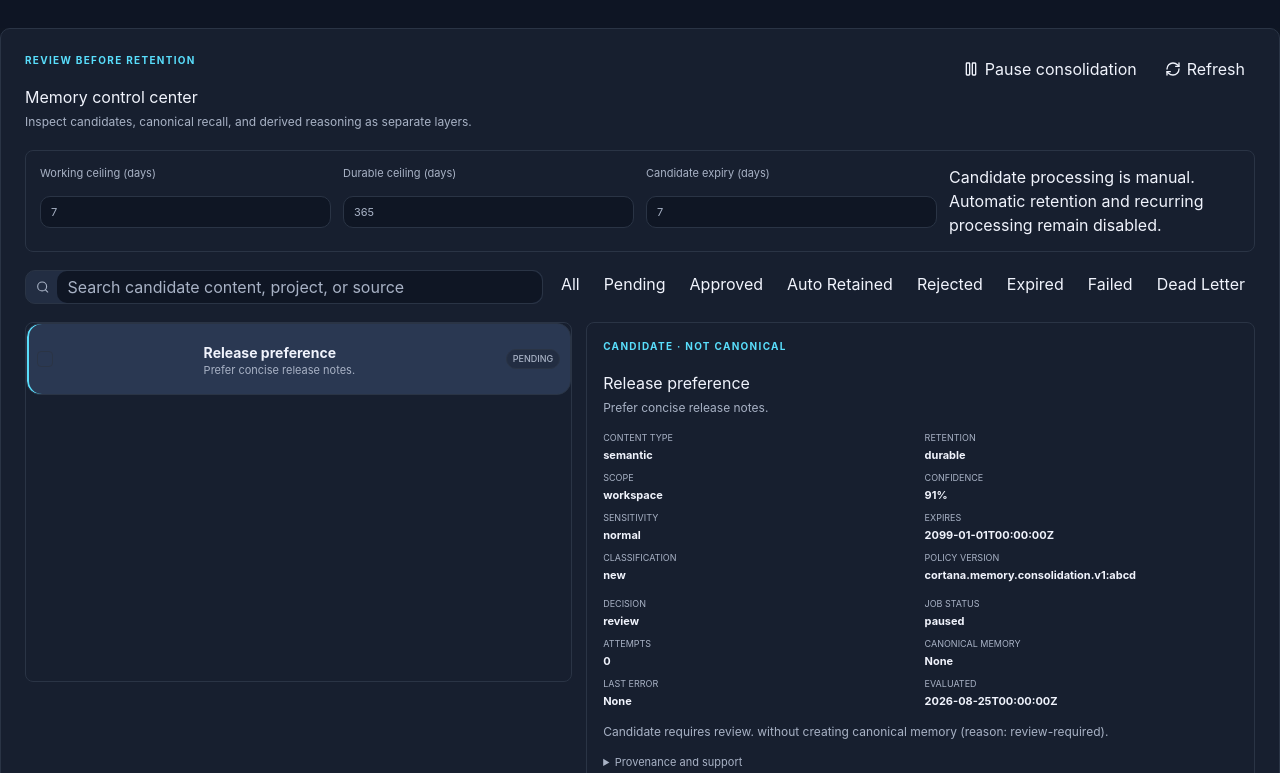
Test: renders a bounded searchable queue with inspectable policy and provenance
Expected: the list named "Memory candidate queue" is shown, [25, 322, 572, 682]
Step 1. Click the button "Release preference Prefer concise release notes." → (279,359), box [61, 343, 498, 375]
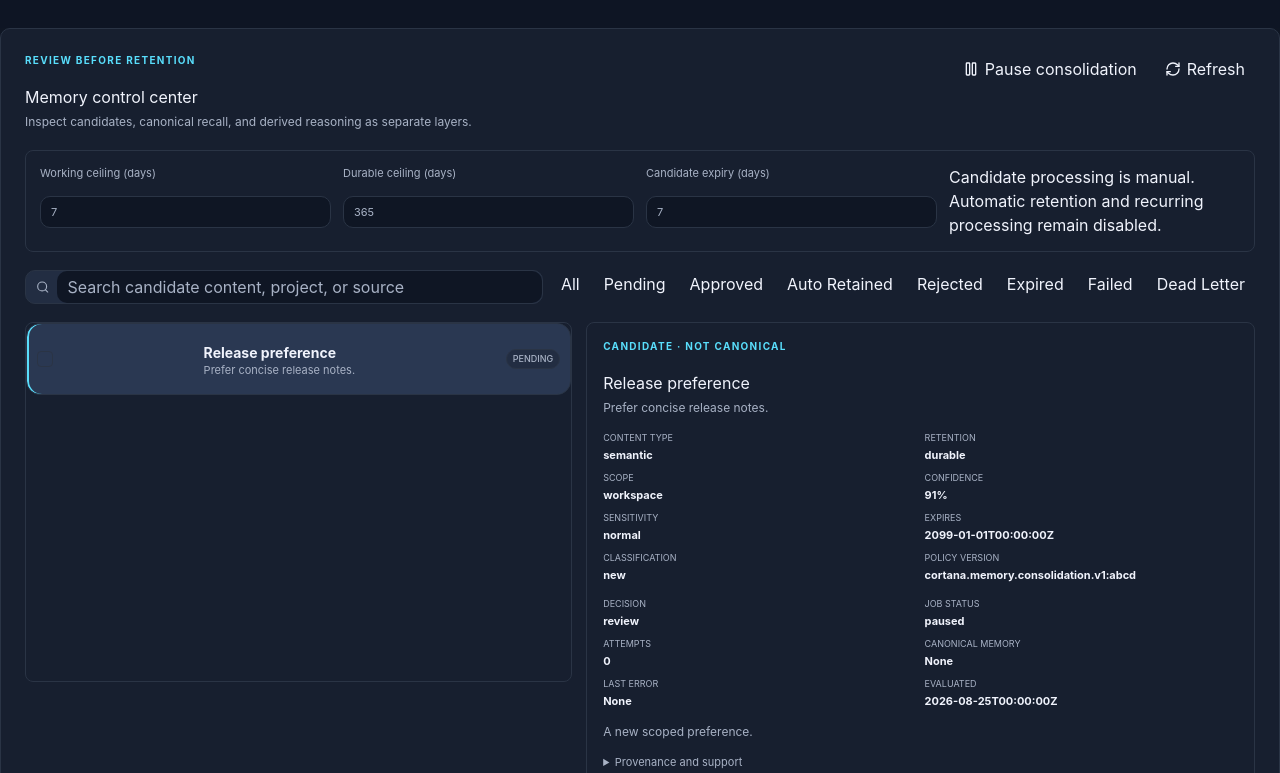
Expected: the text "cortana.memory.consolidation.v1:abcd" is shown, [925, 568, 1136, 582]
Expected: the text "A new scoped preference." is shown, [603, 724, 753, 739]
Step 2. Click the heading "Provenance and support" → (679,762), box [615, 755, 742, 769]
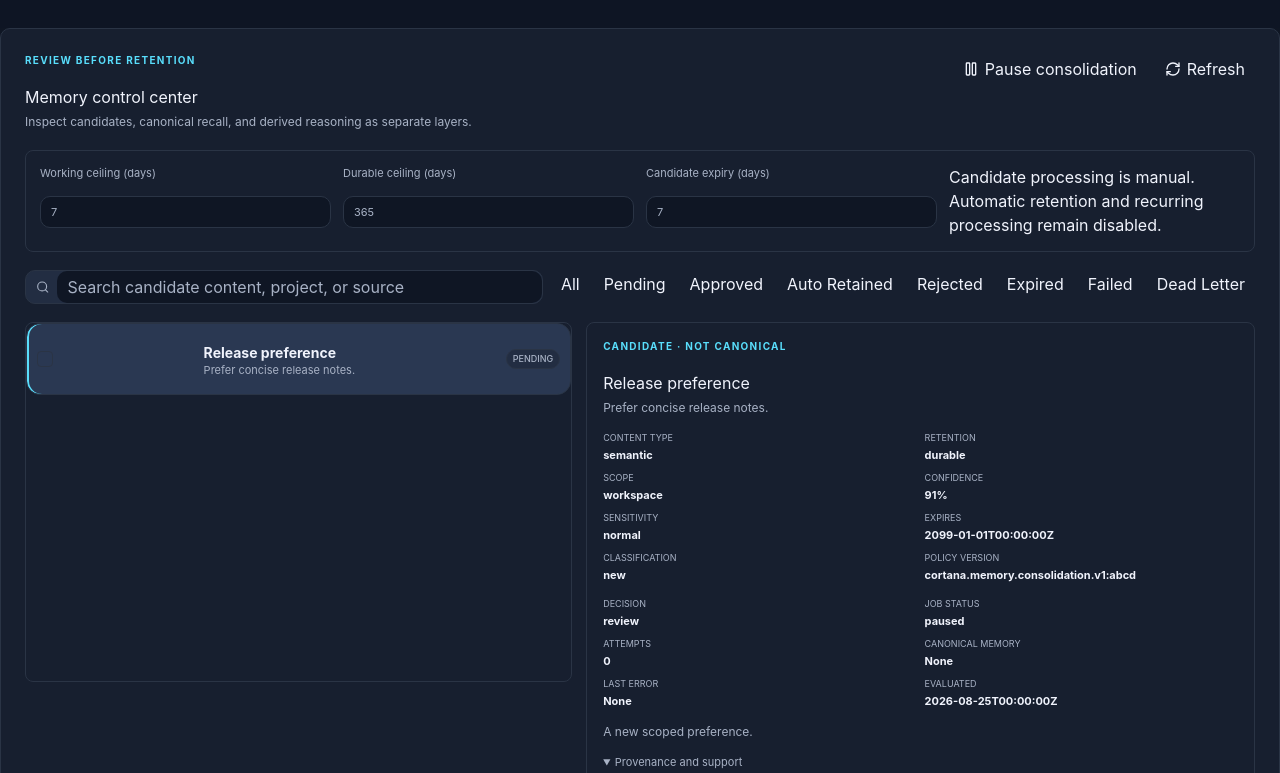
Step 3. Type "missing" into the search field named "Search memory candidates" → (300,287), box [57, 271, 542, 303]
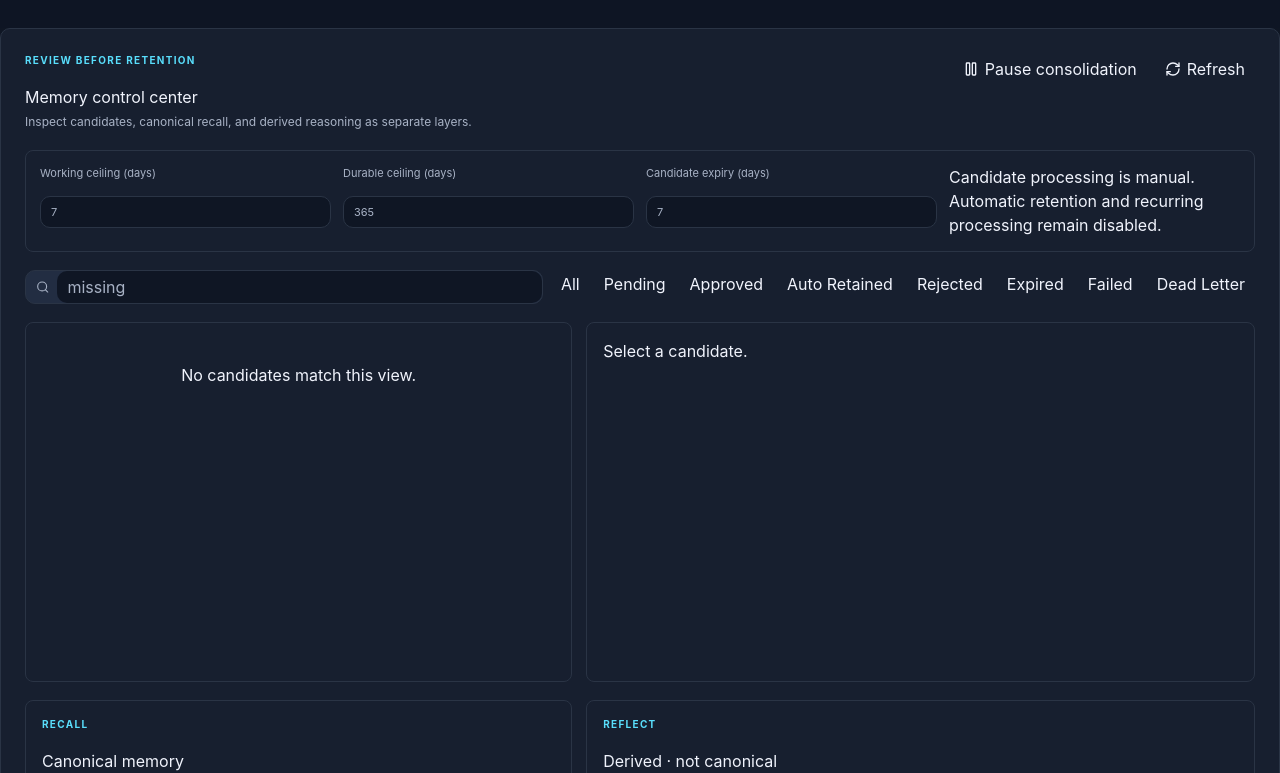
Expected: the text "No candidates match this view." is shown, [181, 365, 416, 385]
